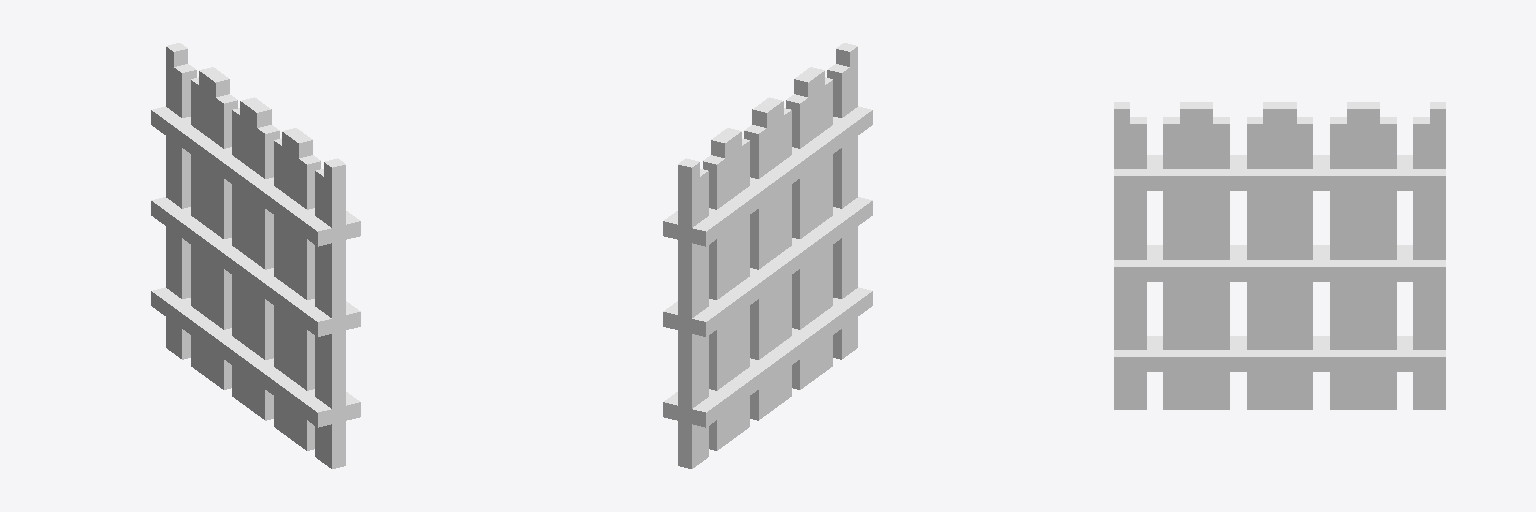
Rendered from fence1.obj.
The picture shows the model from 3 angles: view 1: azimuth 30°, elevation 25°; view 2: azimuth 150°, elevation 25°; view 3: azimuth 270°, elevation 25°; orthographic projection.
Visible parts, largest first — view 1: object 1; view 2: object 1; view 3: object 1.
Part boxes in pixels (x1,y1,x2,y2): object 1: (151, 43, 360, 468); object 1: (663, 43, 872, 468); object 1: (1114, 102, 1445, 409).
Size of the model in its own units: 0.3 by 2 by 2.